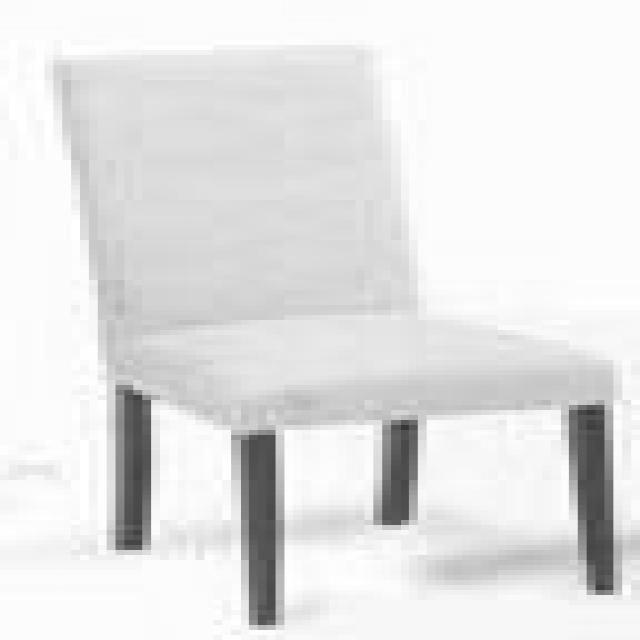chair: (45, 33, 627, 629)
